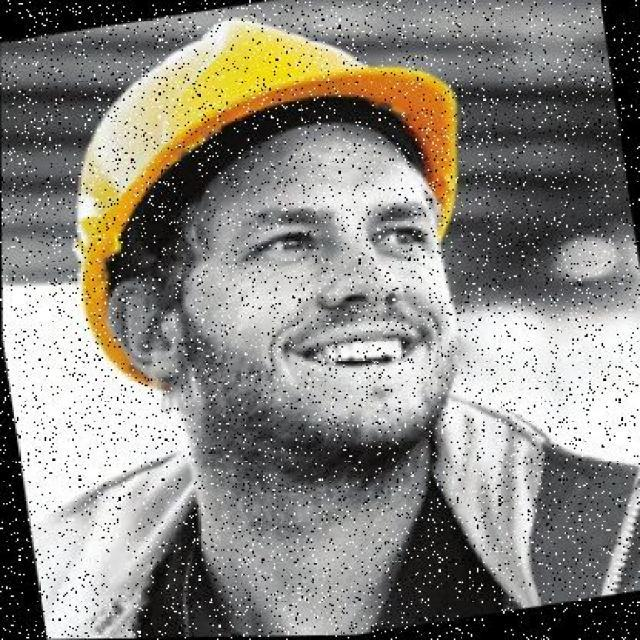helmet: (34, 0, 494, 386)
